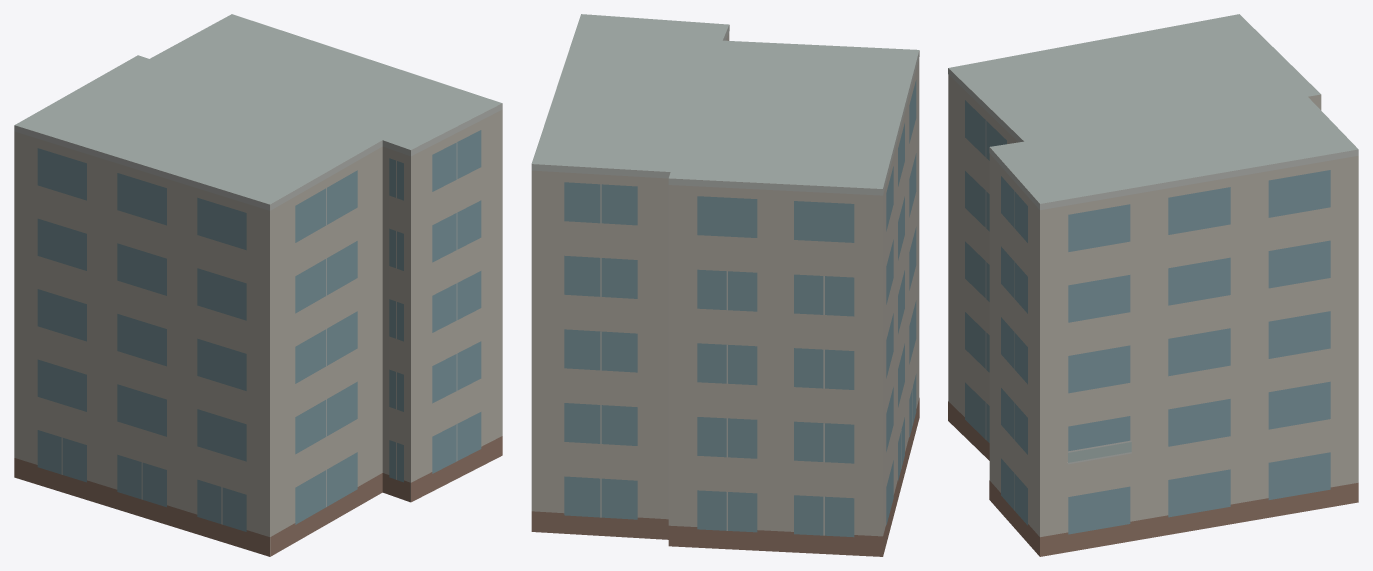
File: survey-upis-32857027.glb
The picture shows the model from 3 angles, left to right: view 1: azimuth 30°, elevation 25°; view 2: azimuth 150°, elevation 25°; view 3: azimuth 270°, elevation 25°; orthographic projection. The views are drawn at different scales.
Visible parts, largest first — view 1: survey-upis-32857027.tmp; view 2: survey-upis-32857027.tmp; view 3: survey-upis-32857027.tmp.
Part boxes in pixels (<box>): survey-upis-32857027.tmp: <box>14,14,502,556</box>; survey-upis-32857027.tmp: <box>531,14,919,556</box>; survey-upis-32857027.tmp: <box>948,14,1358,556</box>.
Bounding box in the file's own units: 15.83 × 13.7 × 14.45.
